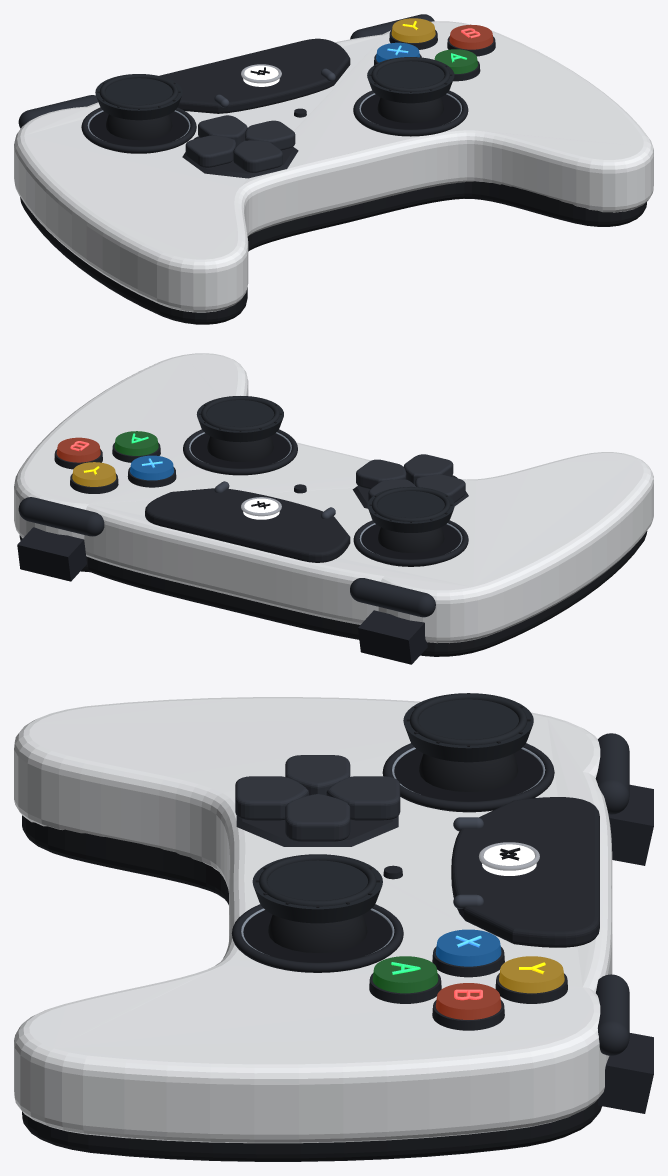
File: gamepad-xbox.glb
3 renders of one model, top to bottom at view 1: azimuth 30°, elevation 25°; view 2: azimuth 150°, elevation 25°; view 3: azimuth 270°, elevation 25°, orthographic. The views are drawn at different scales.
Visible parts, largest first — view 1: Body_Shell, Body_LowerShell, Center_Plate, Stick_L_Cap, Stick_R_Cap, Stick_L_Well, Stick_R_Well, Dpad_Down, Dpad_Left, Stick_R_Ball, Stick_L_Ball, Stick_L_Socket (+13 smaller); view 2: Body_Shell, Center_Plate, Body_LowerShell, Trigger_RT_Blade, Trigger_LT_Blade, Stick_L_Cap, Stick_R_Cap, Bumper_RB, Bumper_LB, Stick_L_Well, Stick_R_Well, Stick_L_Ball (+13 smaller); view 3: Body_Shell, Center_Plate, Body_LowerShell, Stick_L_Cap, Stick_R_Cap, Trigger_RT_Blade, Stick_L_Well, Stick_R_Well, Stick_L_Ball, Stick_R_Ball, Dpad_Right, Trigger_LT_Blade (+19 smaller).
Boxes of the visible parts, x1,y1,x2,y2 form: Body_Shell: (14, 21, 653, 312); Body_LowerShell: (20, 181, 646, 324); Center_Plate: (159, 38, 350, 113); Stick_L_Cap: (95, 74, 182, 120); Stick_R_Cap: (367, 57, 454, 103); Stick_L_Well: (89, 111, 188, 153); Stick_R_Well: (361, 94, 460, 129); Dpad_Down: (233, 140, 282, 172); Dpad_Left: (185, 135, 235, 167); Stick_R_Ball: (377, 97, 443, 123); Stick_L_Ball: (106, 114, 172, 140); Stick_L_Socket: (81, 107, 196, 153); Body_Shell: (14, 353, 653, 643); Center_Plate: (145, 488, 350, 562); Body_LowerShell: (19, 531, 647, 656); Trigger_RT_Blade: (17, 527, 86, 581); Trigger_LT_Blade: (358, 610, 427, 664); Stick_L_Cap: (367, 486, 454, 532); Stick_R_Cap: (196, 396, 283, 442); Bumper_RB: (18, 497, 104, 536); Bumper_LB: (350, 578, 435, 617); Stick_L_Well: (361, 524, 460, 566); Stick_R_Well: (190, 433, 290, 468); Stick_L_Ball: (378, 527, 444, 552); Body_Shell: (14, 697, 612, 1143); Center_Plate: (451, 797, 599, 947); Body_LowerShell: (22, 815, 601, 1161); Stick_L_Cap: (403, 693, 533, 762); Stick_R_Cap: (252, 854, 382, 923); Trigger_RT_Blade: (598, 1033, 653, 1113); Stick_L_Well: (394, 749, 542, 812); Stick_R_Well: (243, 910, 391, 962); Stick_L_Ball: (419, 753, 517, 791); Stick_R_Ball: (268, 914, 367, 952); Dpad_Right: (285, 794, 350, 841); Trigger_LT_Blade: (608, 784, 653, 865).
Bounding box in the file's own units: 4.4 × 0.965 × 3.14.
